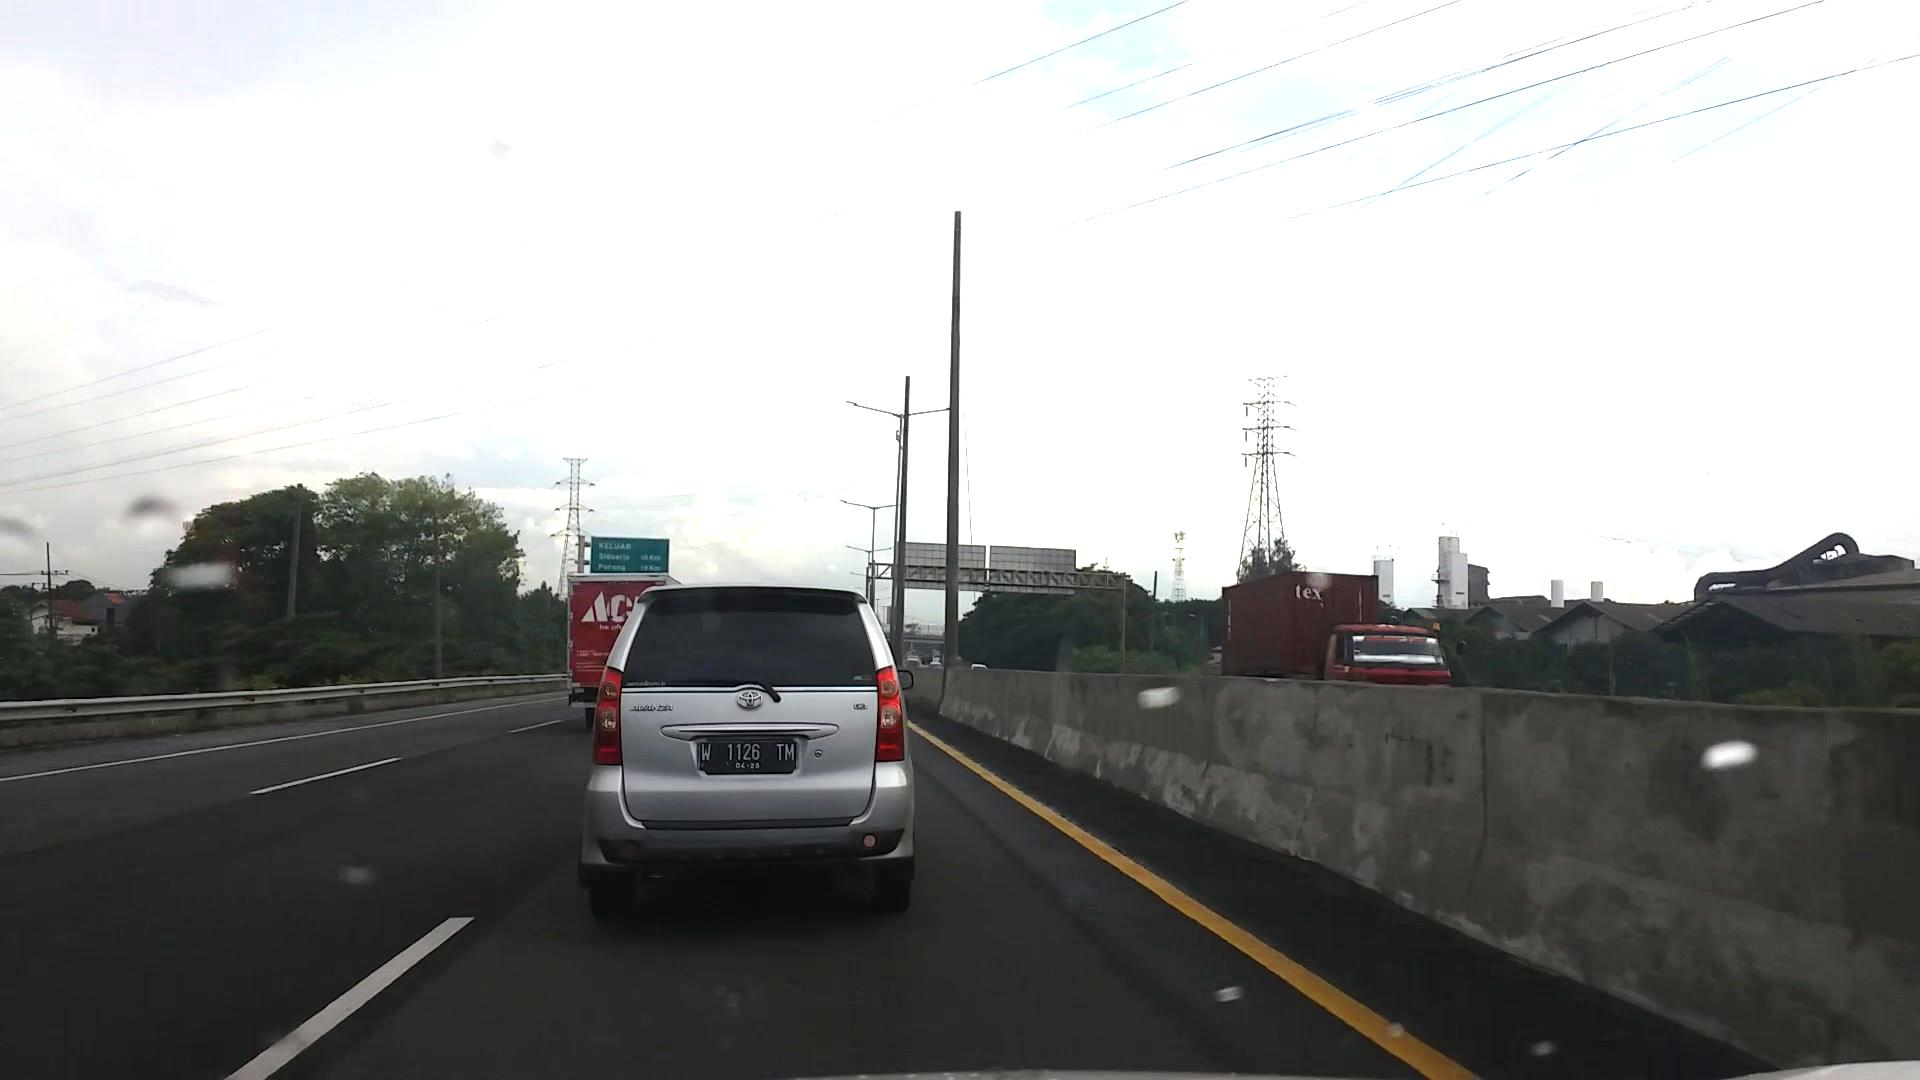plate_positive: (698, 740, 796, 774)
